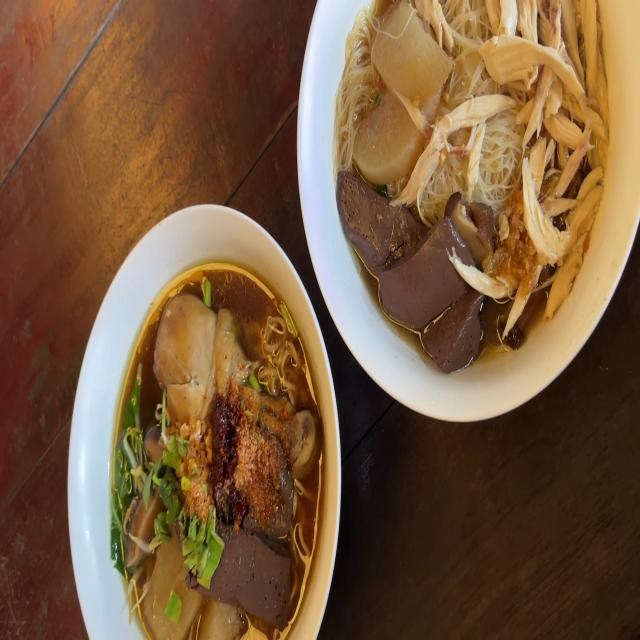noodle: (340, 0, 617, 365), (108, 285, 320, 640)
